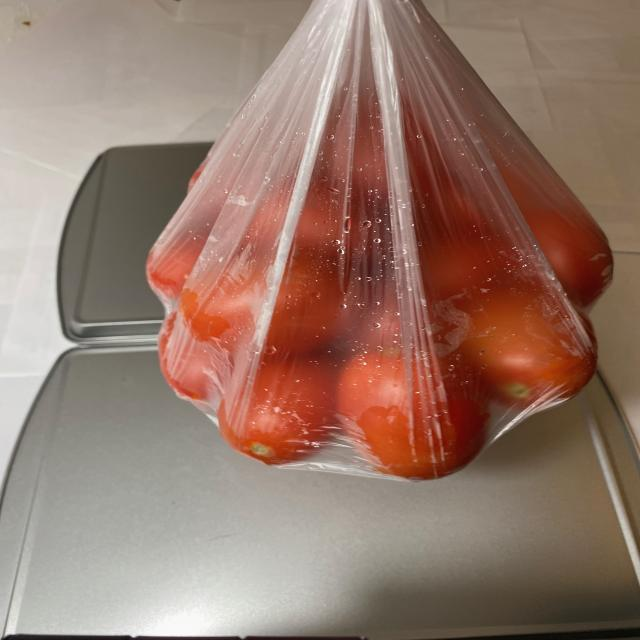tomato: (151, 118, 607, 488)
